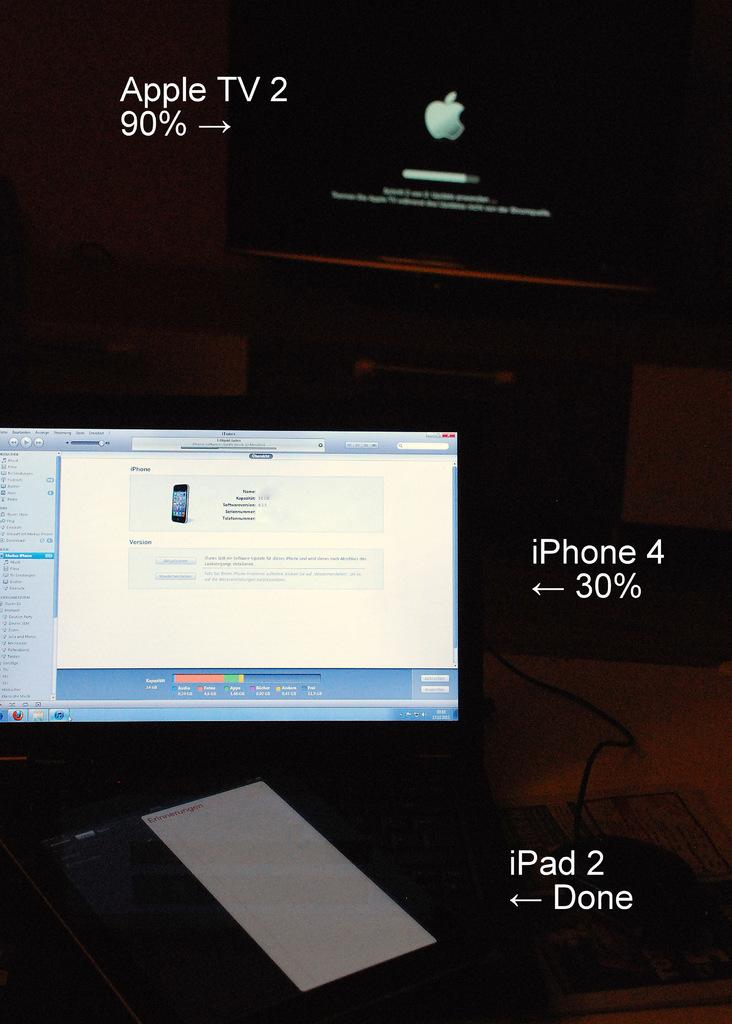Computer-monitor: (0, 390, 489, 793)
